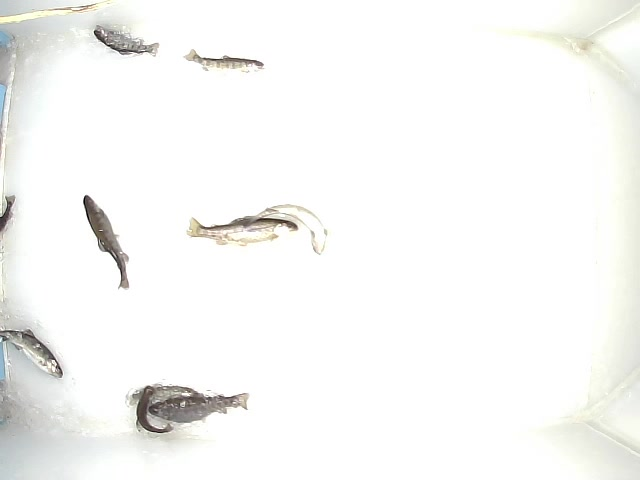fish: (78, 191, 134, 294), (237, 203, 328, 258), (145, 386, 250, 427), (1, 323, 65, 380), (187, 214, 300, 245), (182, 47, 267, 78), (92, 23, 160, 59), (133, 384, 174, 434)
